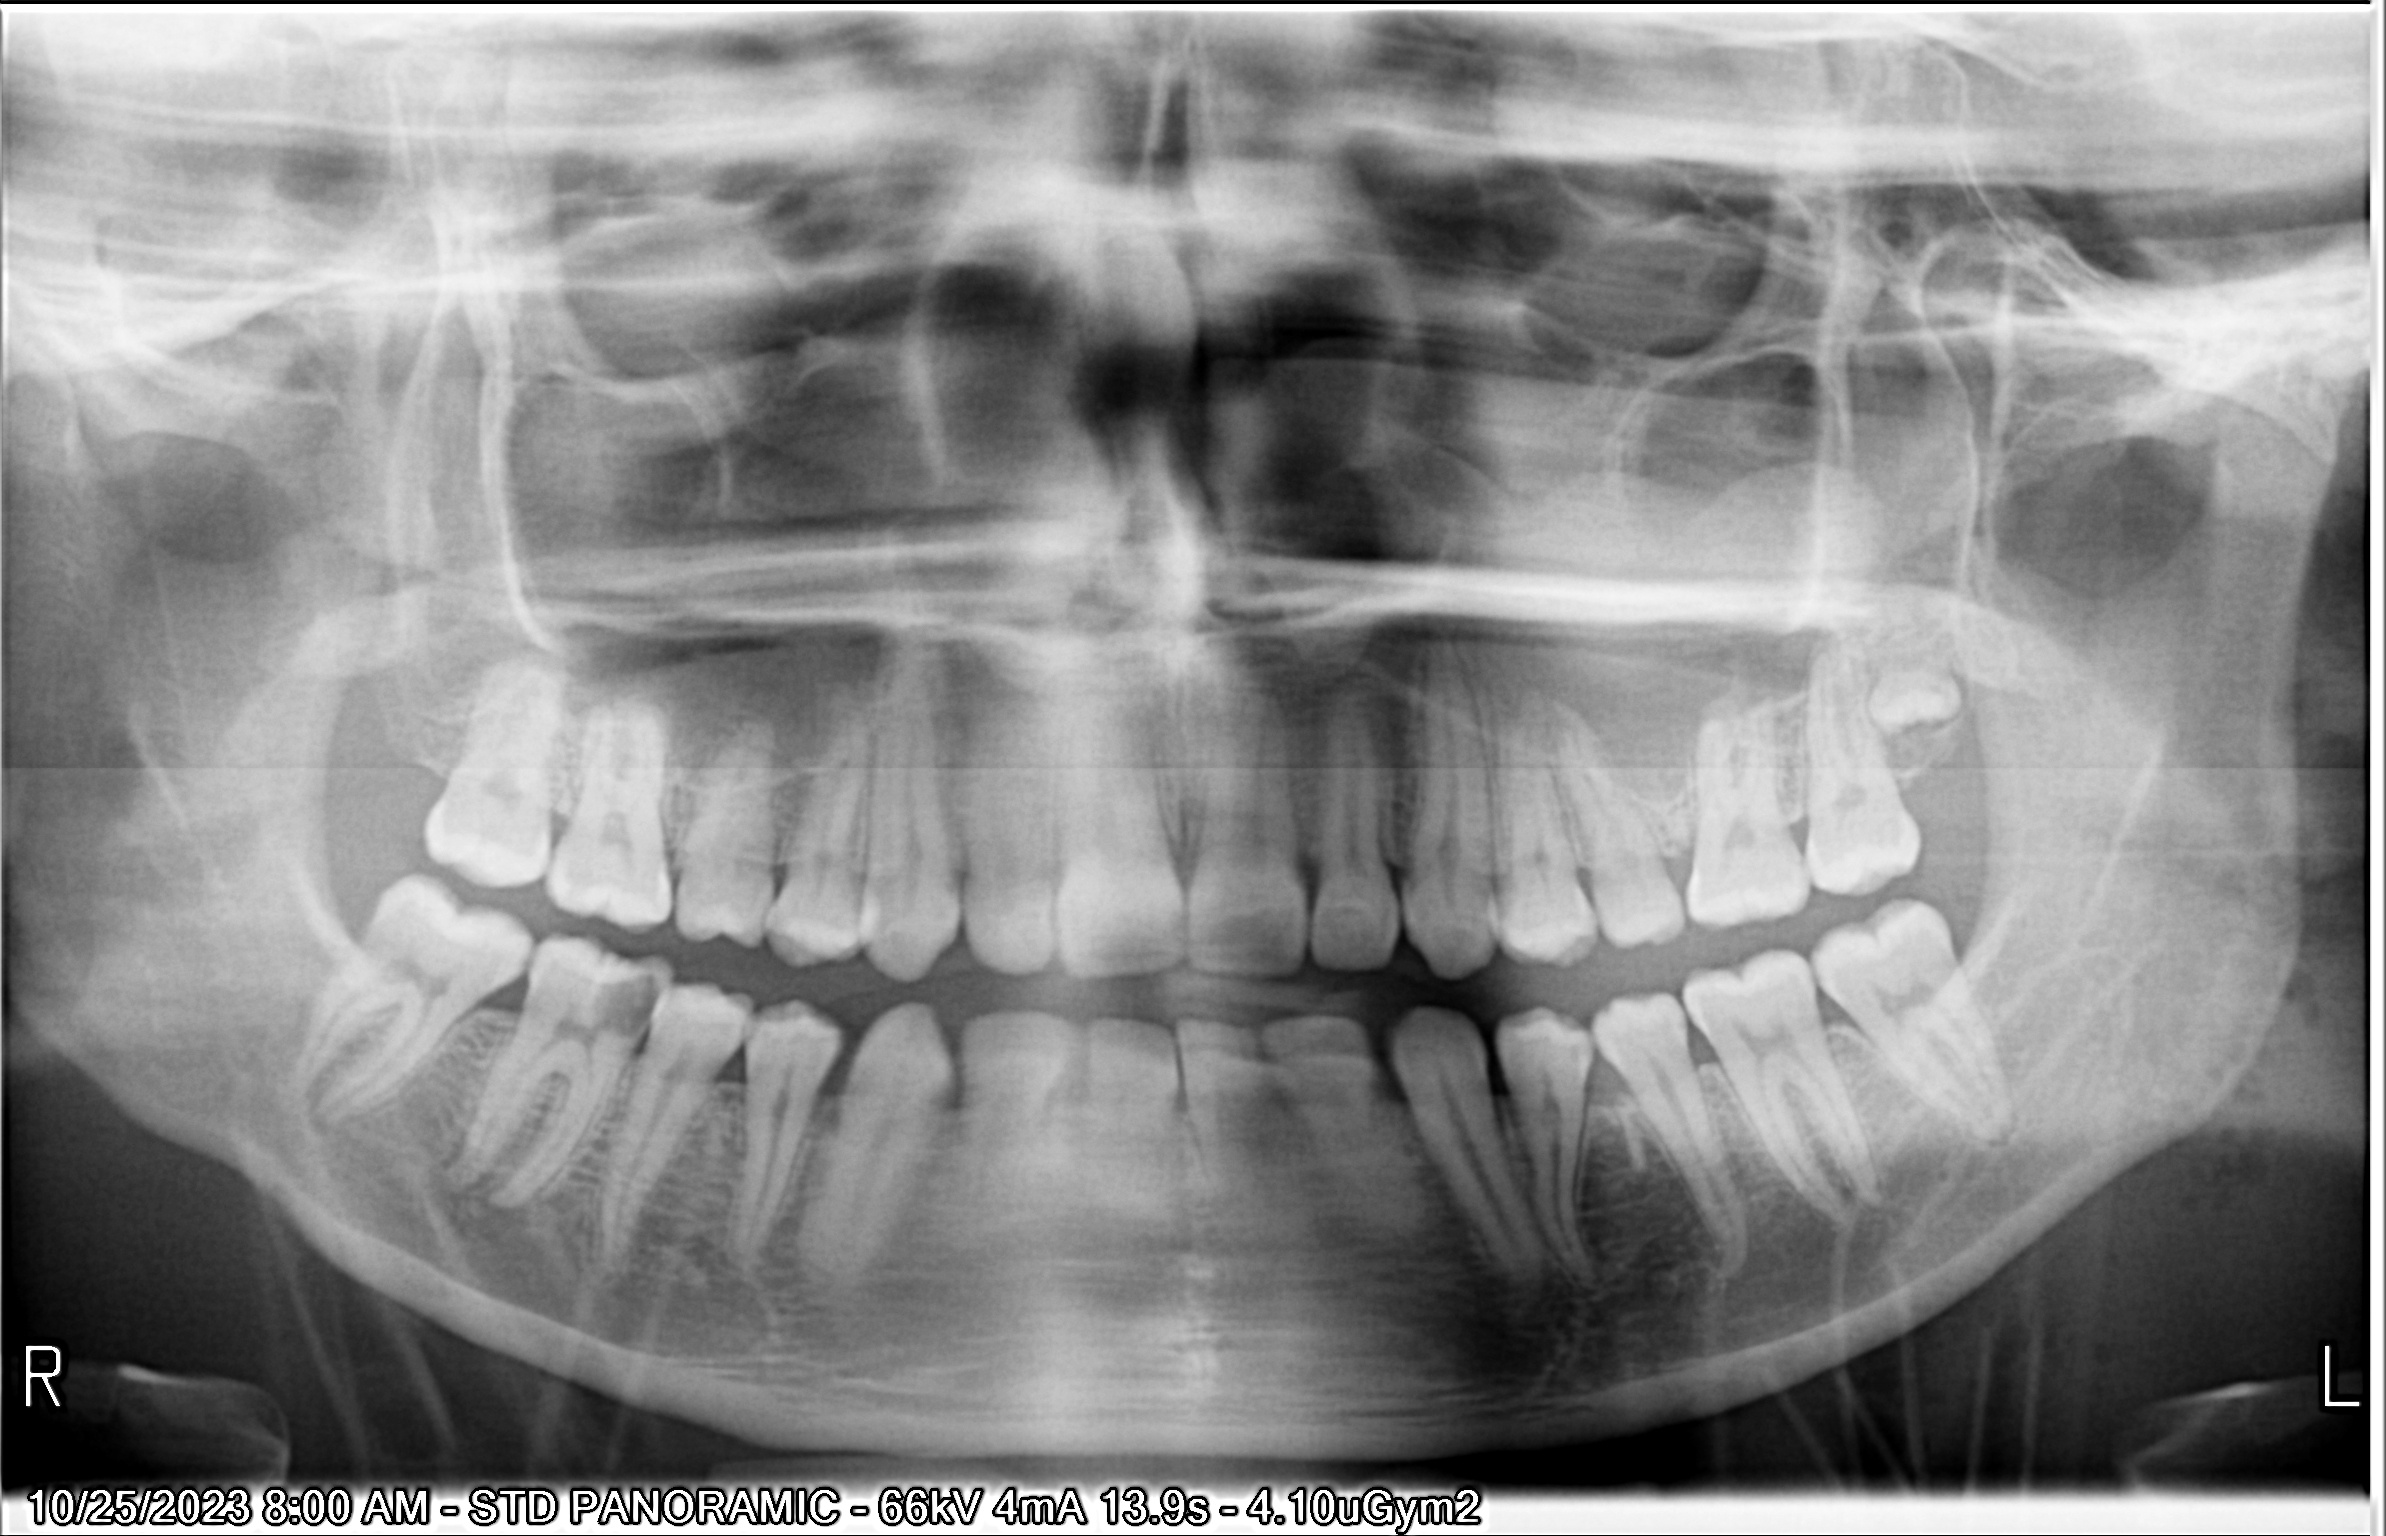API: (438, 1164, 541, 1252), (433, 1127, 501, 1216), (1969, 1110, 2033, 1169)
CAR: (574, 946, 676, 1056)
IMT: (1852, 595, 1976, 751)
